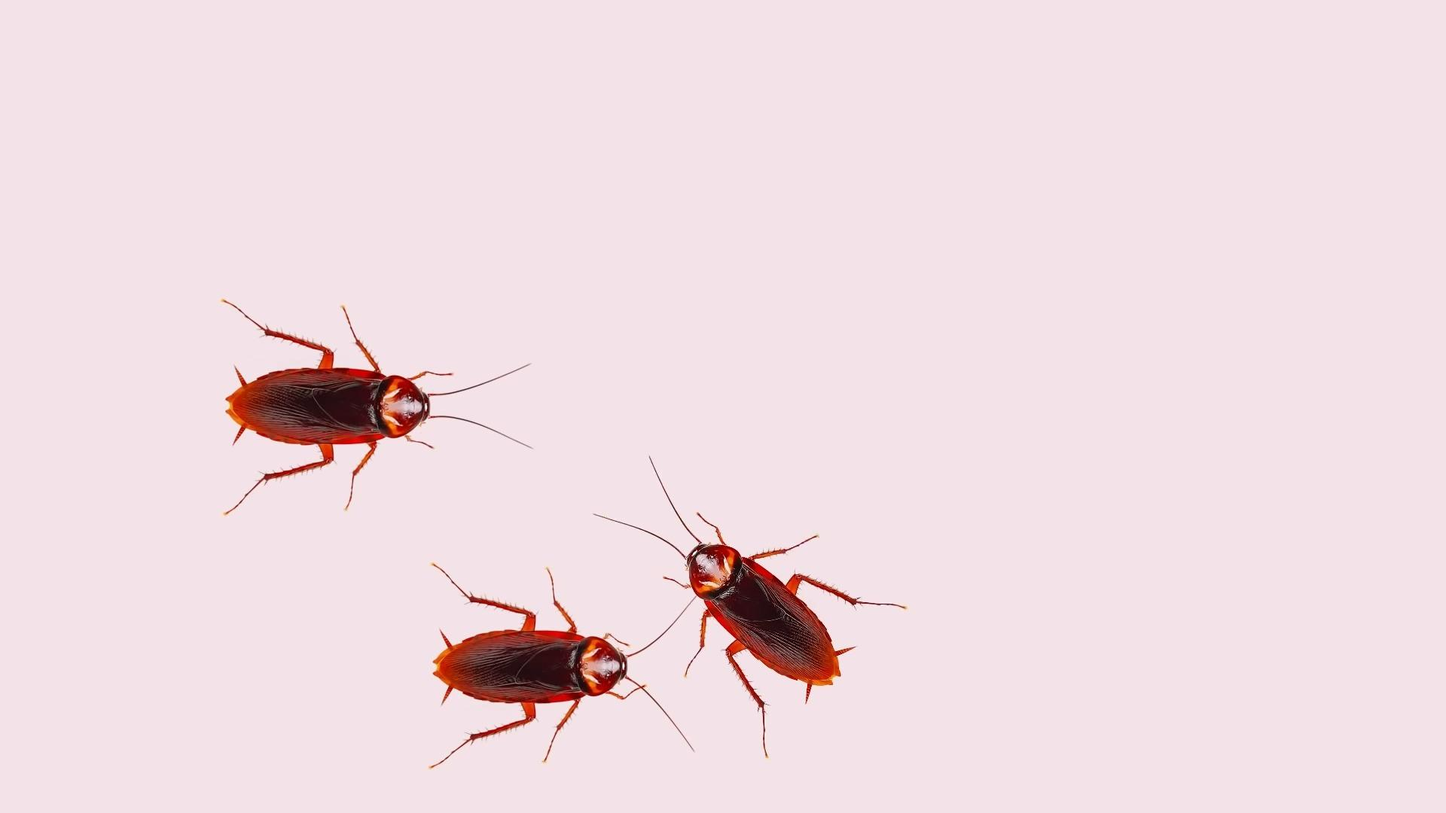cockroach: (651, 483, 919, 739), (213, 303, 498, 494), (398, 595, 674, 753)
